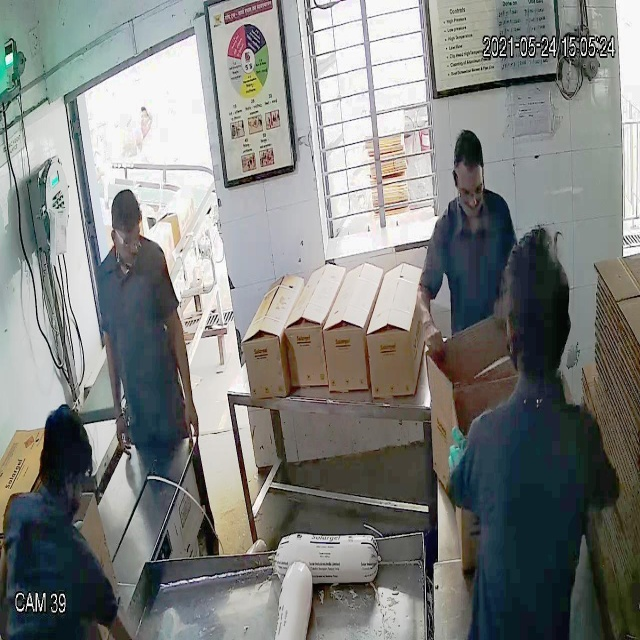Gafas: (453, 166, 488, 204), (108, 222, 143, 257)
